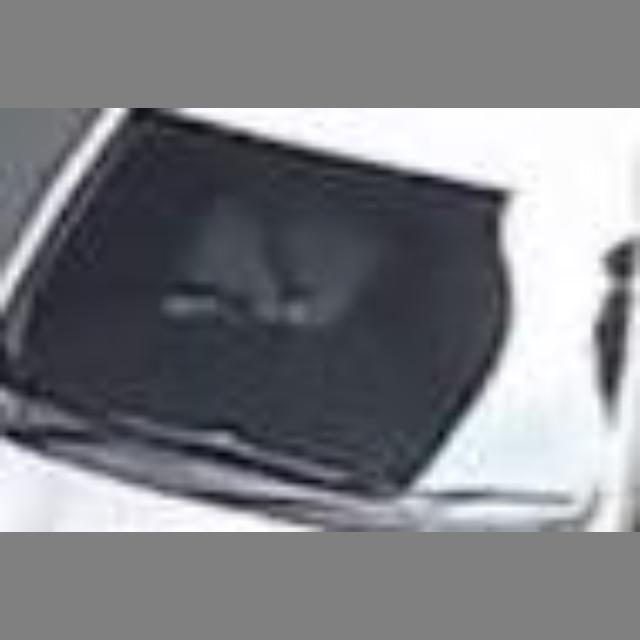pakai: (182, 189, 377, 364)
